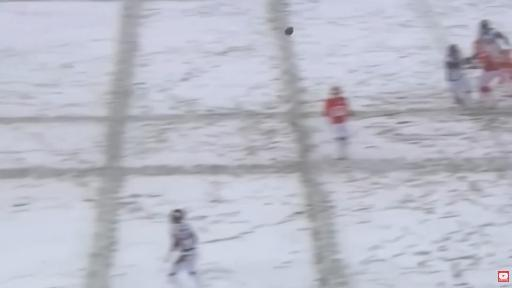Helmet: (170, 209, 184, 223), (479, 20, 491, 35), (448, 44, 459, 58), (330, 86, 342, 96)
Jersey: (172, 222, 197, 253), (324, 97, 349, 124), (445, 56, 464, 81)
Player: (166, 209, 199, 286), (324, 86, 353, 159), (445, 45, 471, 105)
